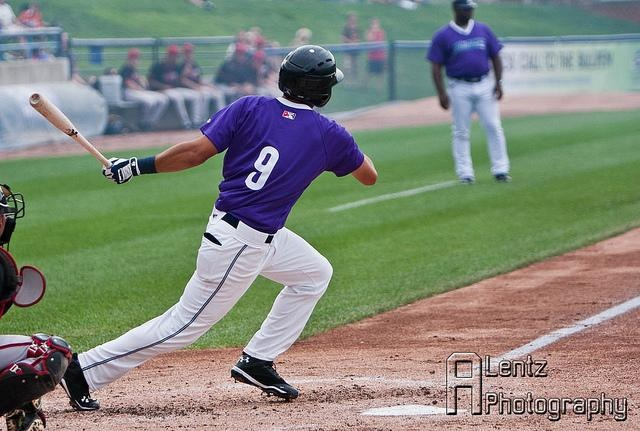person: (55, 44, 377, 409), (418, 1, 512, 185)
